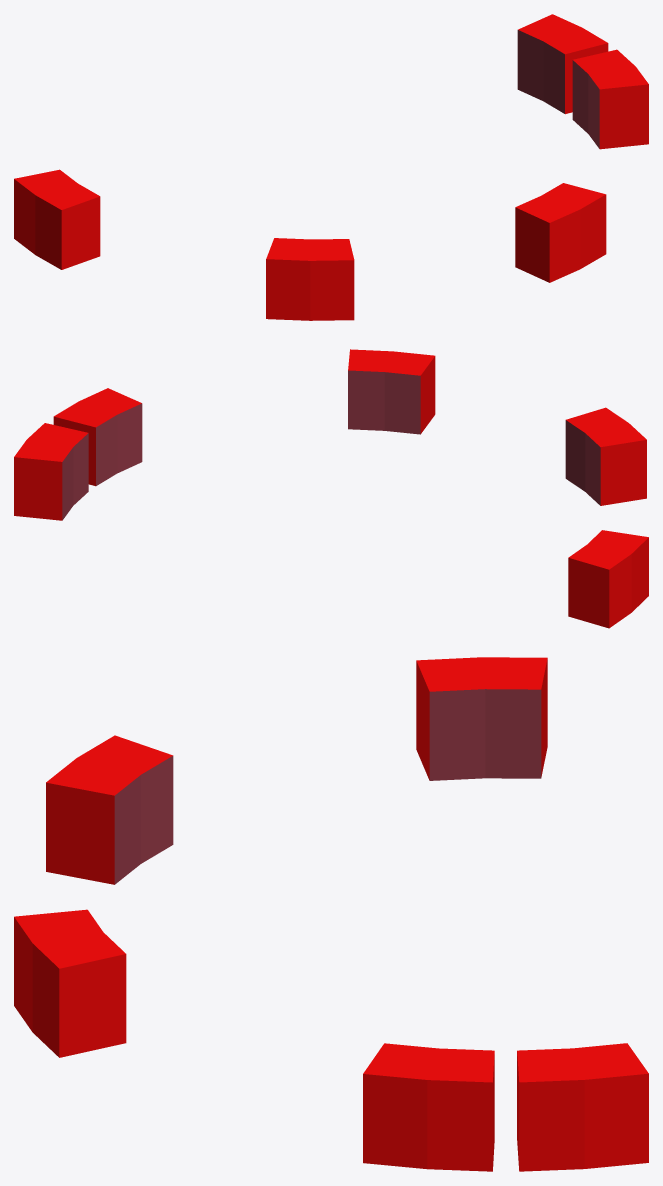
Rendered from Obstacle5.fbx.
3 renders of one model, top to bottom at view 1: azimuth 30°, elevation 25°; view 2: azimuth 150°, elevation 25°; view 3: azimuth 270°, elevation 25°, orthographic. The views are drawn at different scales.
Parts seen in each view (by area): view 1: Obstacle5; view 2: Obstacle5; view 3: Obstacle5.
Boxes of the visible parts, x1=… form: Obstacle5: x1=14, y1=14, x2=648, y2=320; Obstacle5: x1=14, y1=349, x2=648, y2=628; Obstacle5: x1=14, y1=657, x2=648, y2=1171.
Size of the model in its own units: 200 by 19.55 by 126.
